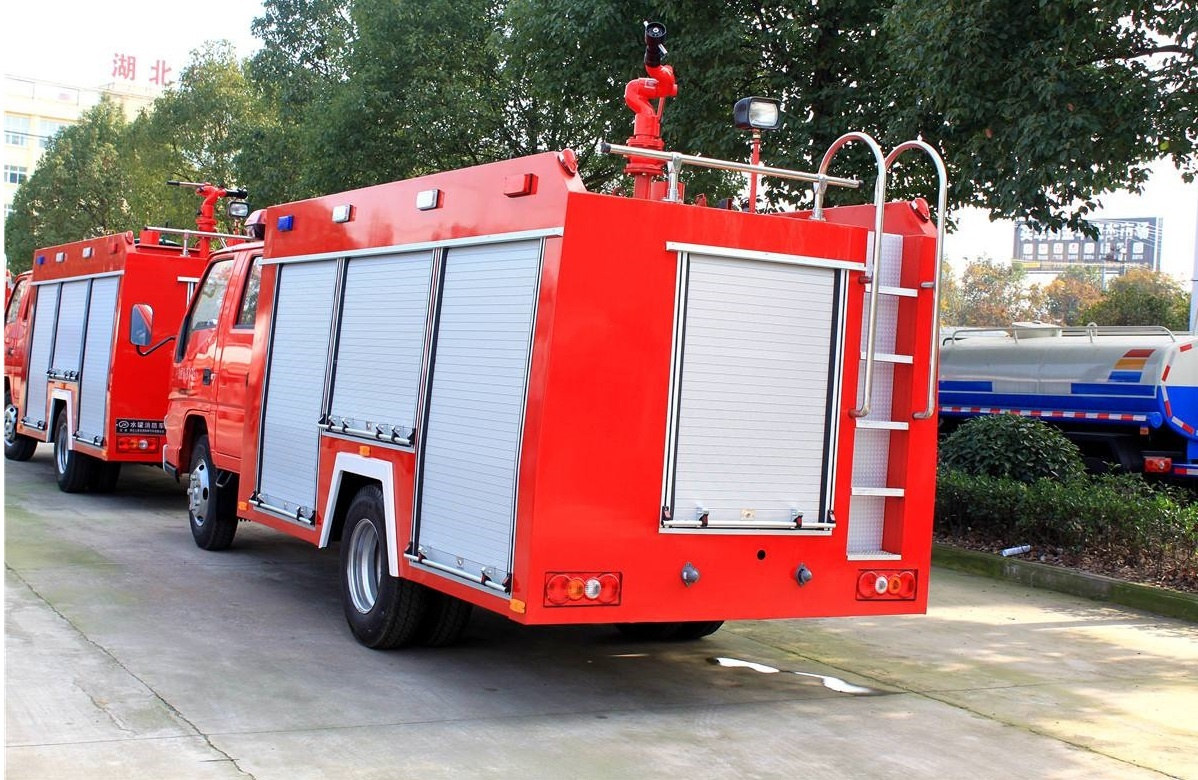fire engine: (176, 127, 956, 670)
